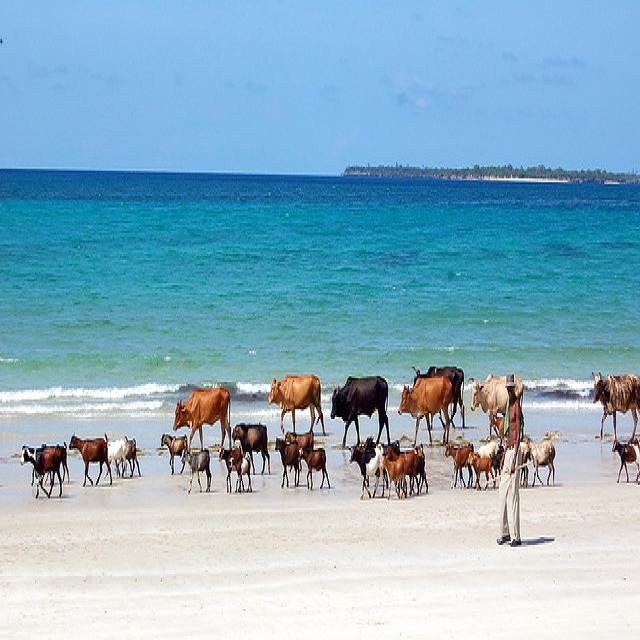cow: (329, 372, 389, 446), (396, 374, 452, 446), (172, 384, 230, 450), (466, 371, 522, 439), (590, 367, 639, 439), (411, 363, 464, 427), (272, 374, 324, 429), (350, 442, 384, 495), (610, 436, 639, 483)
